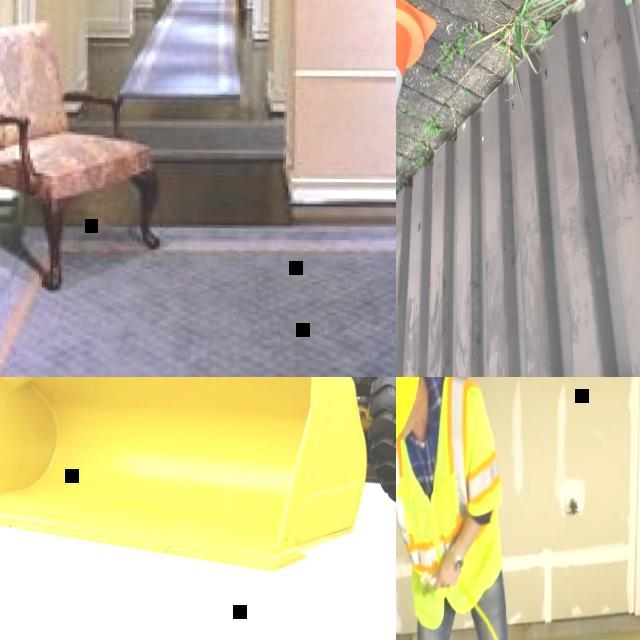helmet: (396, 377, 421, 439)
vest: (396, 377, 503, 631)
